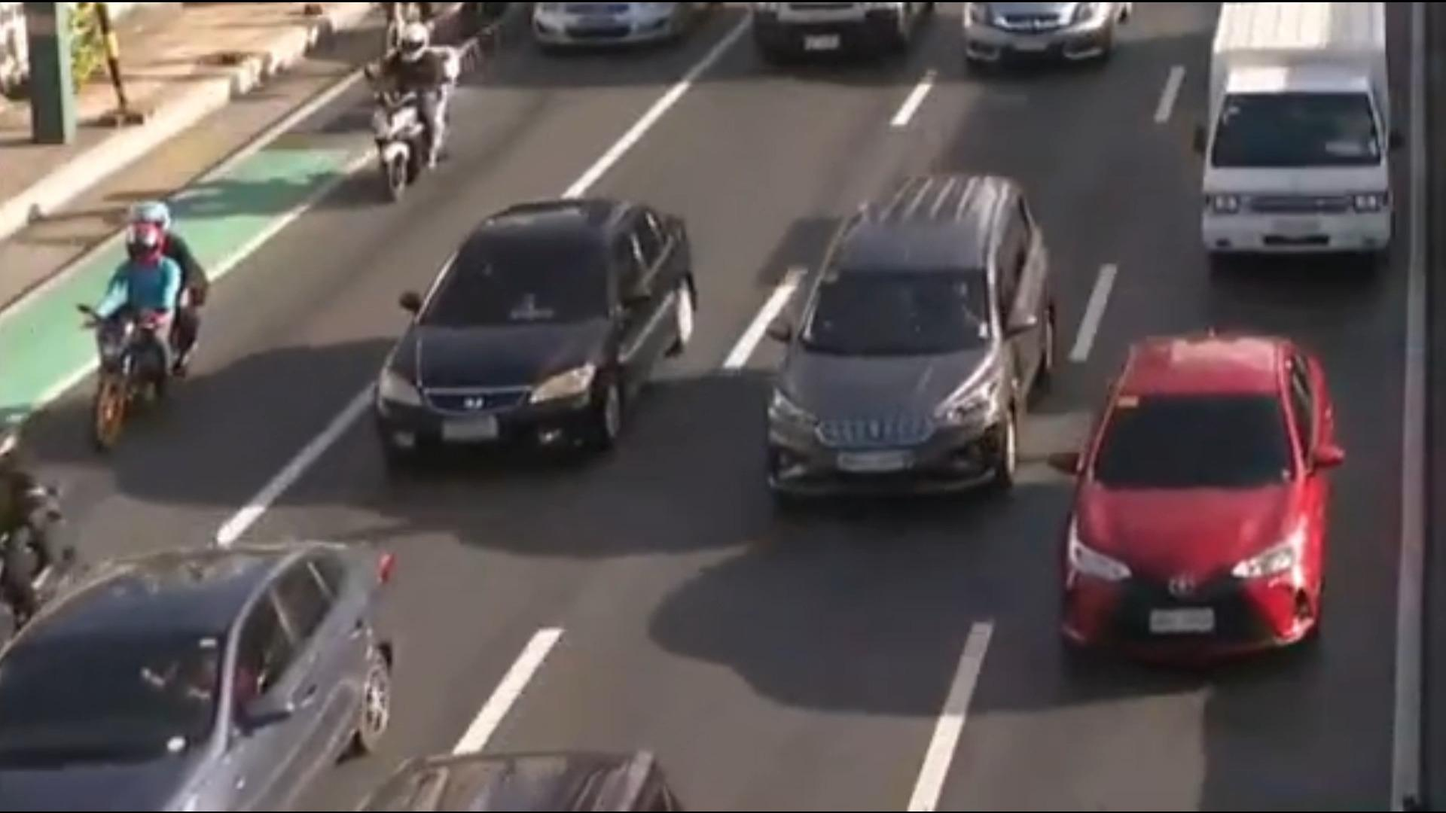Motorcycle: (70, 196, 212, 441), (352, 16, 456, 211), (0, 422, 82, 629)
Multicab: (1185, 0, 1405, 255)
SUV: (760, 171, 1051, 493)
Sedan: (3, 547, 385, 813), (1046, 331, 1341, 660), (367, 201, 697, 466)
